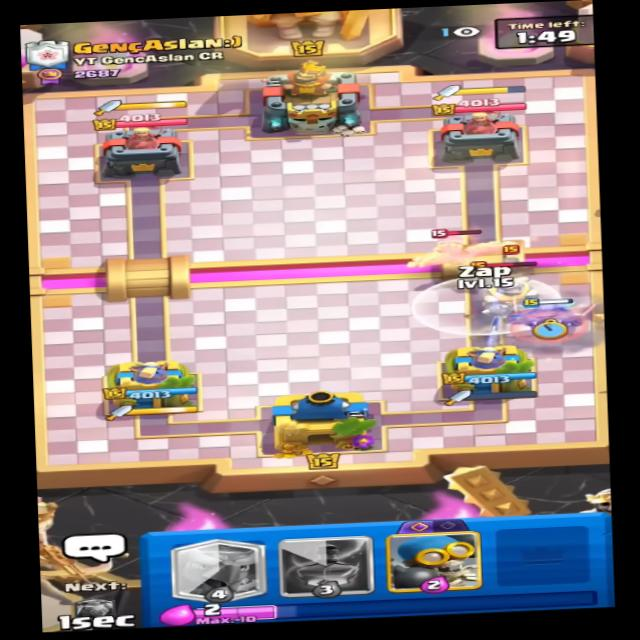mega-knight: (459, 262, 562, 321)
phoenix: (397, 224, 523, 278)
